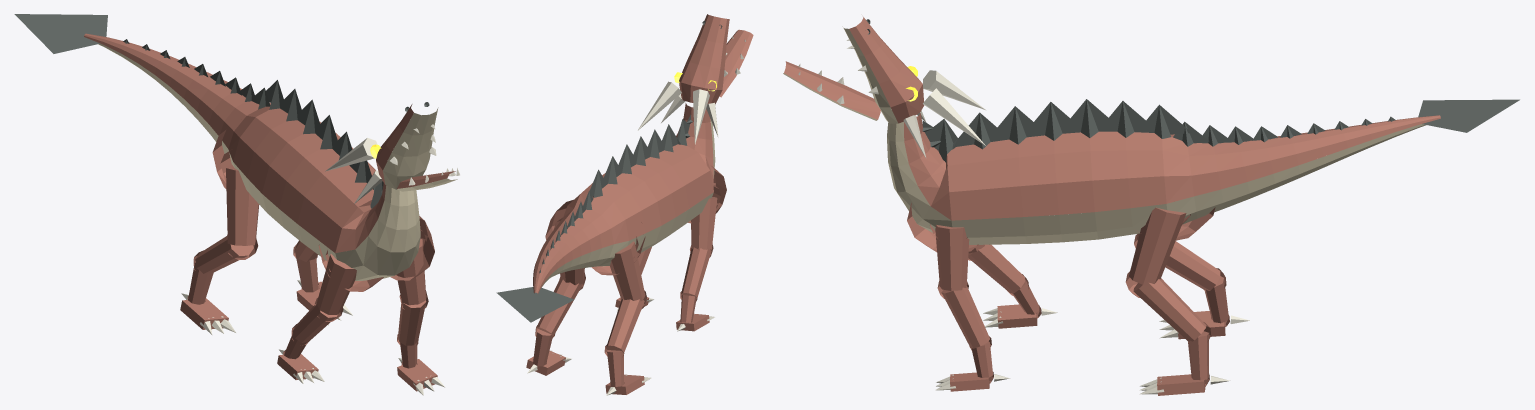
File: dragons-and-wyverns-drake-roaring-3f5ac1b7__36729.glb
3 views of the same model, side by side, from view 1: azimuth 30°, elevation 25°; view 2: azimuth 150°, elevation 25°; view 3: azimuth 270°, elevation 25° (orthographic). The views are drawn at different scales.
Visible parts, largest first — view 1: drake-roaring; view 2: drake-roaring; view 3: drake-roaring.
Boxes of the visible parts, x1,y1,x2,y2 form: drake-roaring: [14, 14, 459, 395]; drake-roaring: [496, 14, 753, 395]; drake-roaring: [783, 17, 1519, 395].
Size of the model in its own units: 0.7698 by 1.5 by 2.88.
